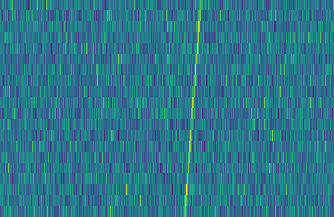signal: (180, 0, 205, 217)
